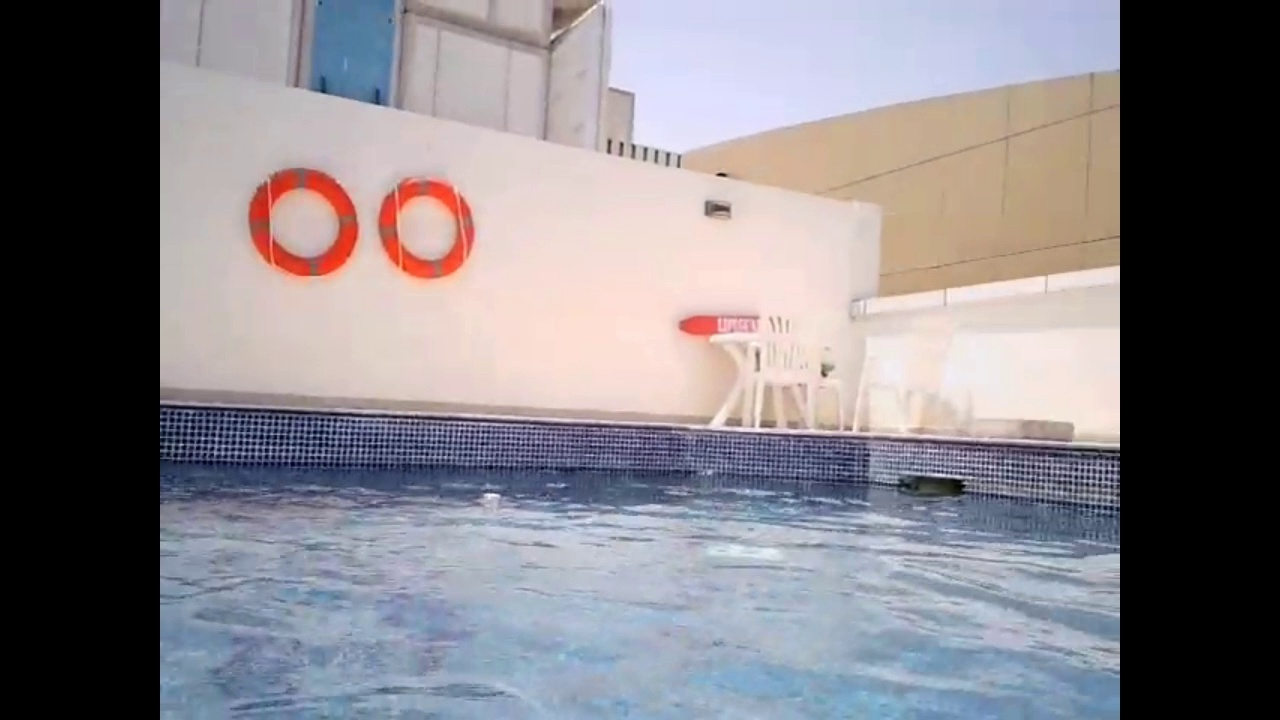debris: (478, 485, 506, 504)
